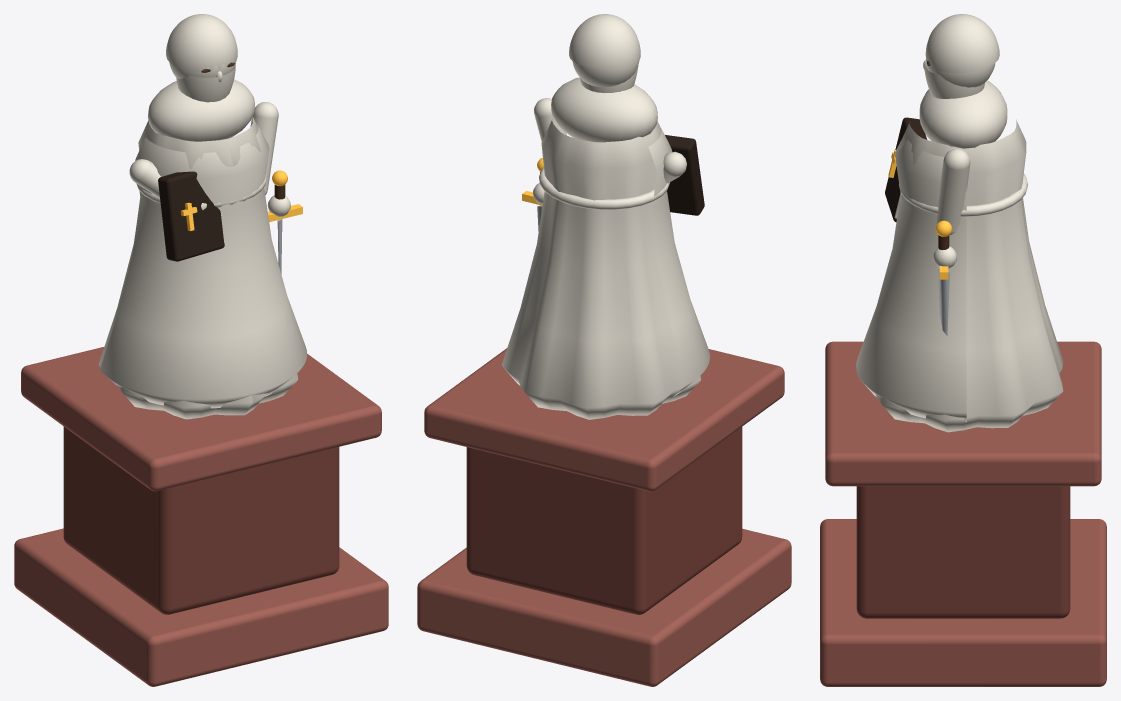
Rendered from statue-paul.glb.
3 views of the same model, side by side, from view 1: azimuth 30°, elevation 25°; view 2: azimuth 150°, elevation 25°; view 3: azimuth 270°, elevation 25° (orthographic). The views are drawn at different scales.
Visible parts, largest first — view 1: Pedestal, Cloak, Plinth, Cap, Robe, Shoulders, Cover, Hair, Beard, ArmR, ArmL, Sword; view 2: Robe, Pedestal, Plinth, Cap, Cloak, Shoulders, Hair, Cover, object 7, Head, ArmR, ArmL; view 3: Pedestal, Plinth, Cap, Robe, Cloak, Shoulders, Hair, ArmR, object 7, Beard, Cover, Head (+2 smaller).
Part boxes in pixels (x1=…): Pedestal: x1=63, y1=426, x2=339, y2=614; Cloak: x1=100, y1=125, x2=307, y2=408; Plinth: x1=14, y1=528, x2=388, y2=686; Cap: x1=21, y1=347, x2=381, y2=491; Robe: x1=98, y1=117, x2=298, y2=419; Shoulders: x1=148, y1=79, x2=254, y2=141; Cover: x1=158, y1=171, x2=224, y2=261; Hair: x1=166, y1=14, x2=237, y2=72; Beard: x1=176, y1=65, x2=235, y2=102; ArmR: x1=250, y1=102, x2=278, y2=195; ArmL: x1=129, y1=159, x2=160, y2=197; Sword: x1=267, y1=170, x2=302, y2=221; Robe: x1=501, y1=118, x2=700, y2=419; Pedestal: x1=466, y1=427, x2=742, y2=614; Plinth: x1=417, y1=528, x2=791, y2=686; Cap: x1=424, y1=348, x2=784, y2=491; Cloak: x1=648, y1=128, x2=709, y2=396; Shoulders: x1=551, y1=77, x2=657, y2=142; Hair: x1=569, y1=14, x2=640, y2=69; Cover: x1=665, y1=135, x2=704, y2=215; object 7: x1=539, y1=167, x2=669, y2=209; Head: x1=572, y1=61, x2=639, y2=87; ArmR: x1=534, y1=98, x2=566, y2=141; ArmL: x1=663, y1=151, x2=686, y2=183; Pedestal: x1=856, y1=486, x2=1070, y2=618; Plinth: x1=820, y1=519, x2=1106, y2=686; Cap: x1=825, y1=341, x2=1101, y2=486; Robe: x1=857, y1=119, x2=1063, y2=432; Cloak: x1=856, y1=140, x2=966, y2=422; Shoulders: x1=919, y1=80, x2=1007, y2=148; Hair: x1=925, y1=14, x2=999, y2=73; ArmR: x1=937, y1=148, x2=970, y2=235; object 7: x1=899, y1=173, x2=1027, y2=216; Beard: x1=924, y1=66, x2=984, y2=98; Cover: x1=885, y1=117, x2=927, y2=221; Head: x1=926, y1=55, x2=995, y2=87.
Size of the model in its own units: 1.1 by 2.59 by 1.1.
